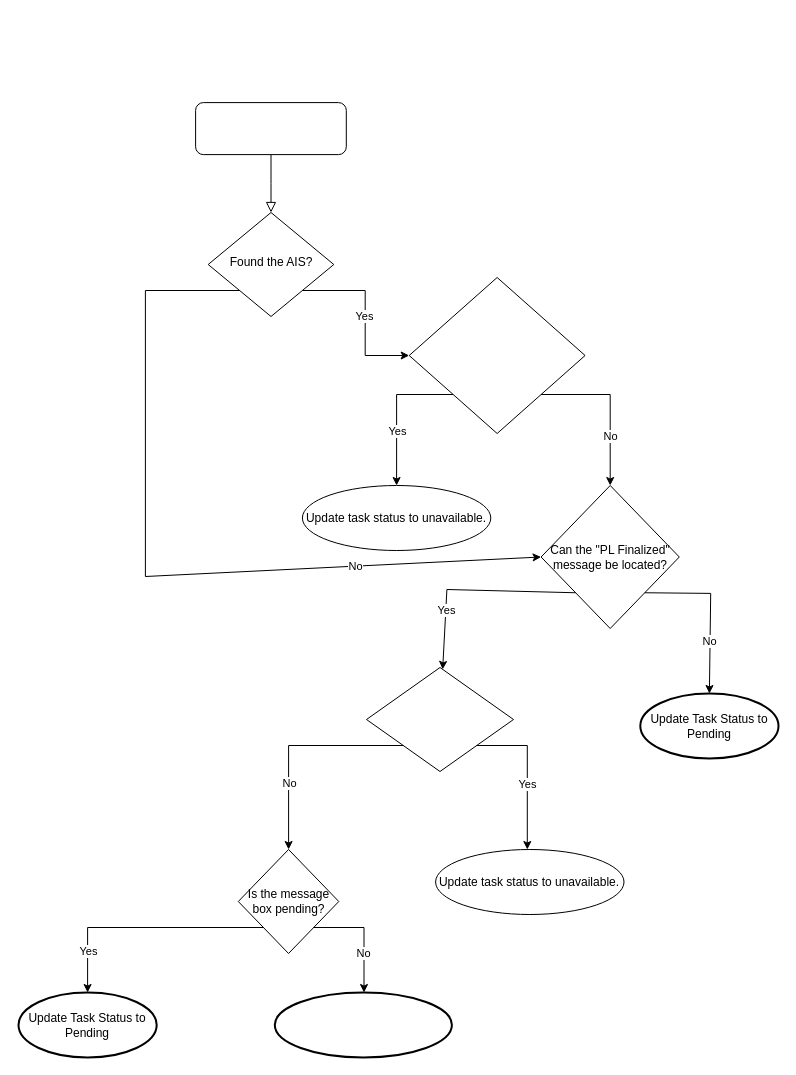
Image size: 796x1075. Some labels were removed from this diagram. Each missing label, with the centre of its shape:
Has it been marked by someone else?: point (496, 355)
Is it meant for an EB1B/O1A case?: point (440, 719)
Look through the AIS List: point (270, 128)
Update Task Status to Available: point (362, 1024)
